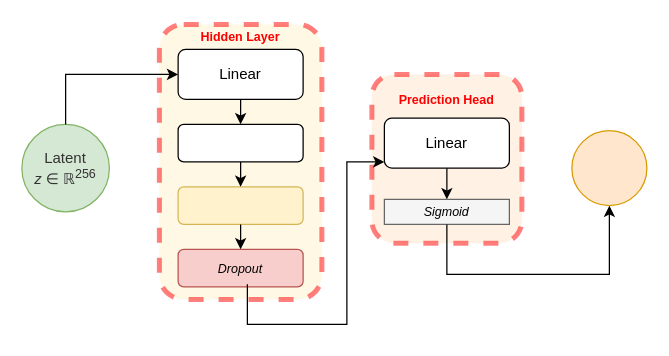
This 669x356 diagram has some shape labels left out. Each missing label, with the box of its shape:
GELU: (177, 186, 303, 224)
LayerNorm: (177, 123, 303, 162)
Prob ŷ: (571, 129, 647, 206)
